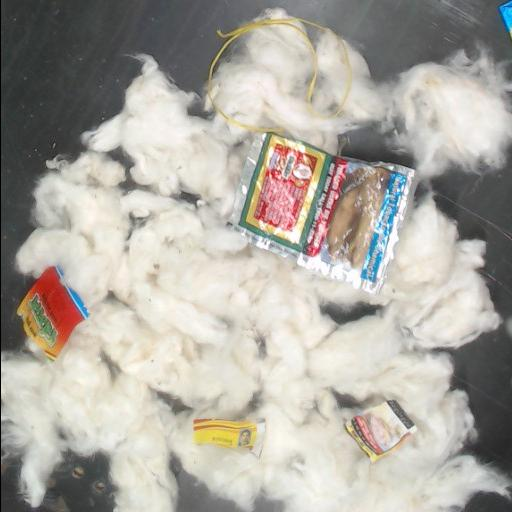conveyor belt: (1, 0, 512, 349), (432, 150, 512, 317), (449, 327, 512, 476), (1, 454, 112, 511)
cotton: (1, 9, 512, 511)
packet: (227, 132, 414, 292), (17, 266, 88, 359), (344, 400, 415, 460), (193, 419, 264, 456)
thread: (205, 18, 352, 133)
